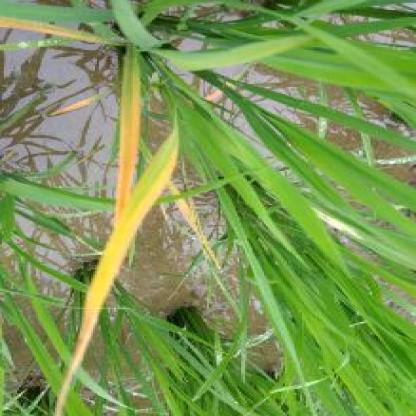Tungro: (76, 61, 167, 408)
